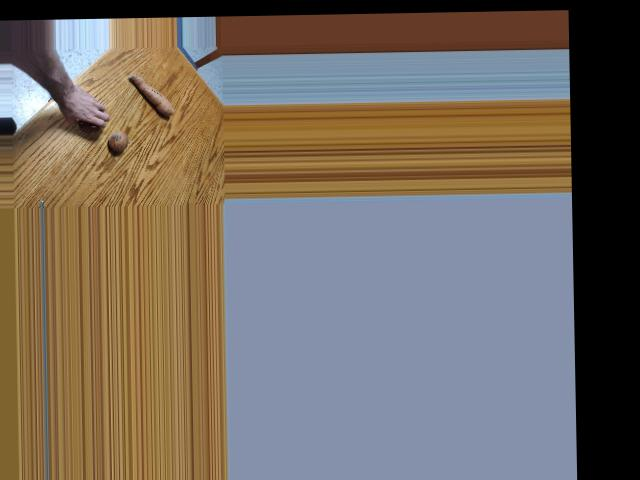onion: (76, 109, 100, 131)
